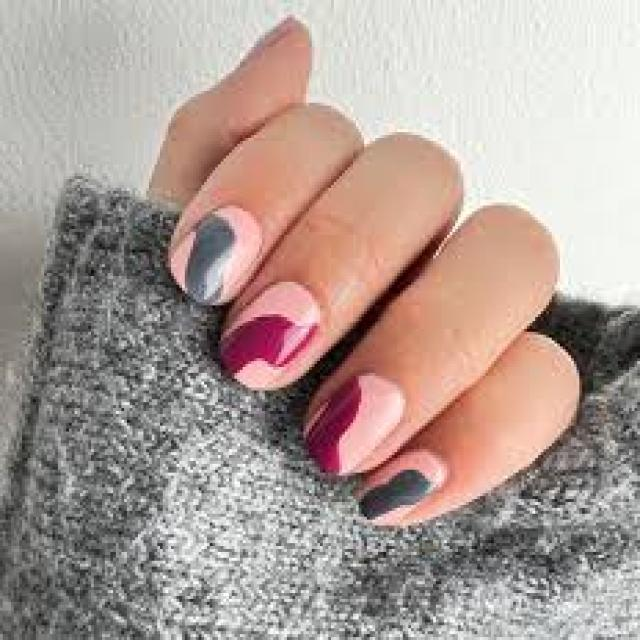Fingernail: (219, 280, 320, 390), (306, 374, 403, 474), (170, 207, 261, 305), (357, 448, 449, 525)
